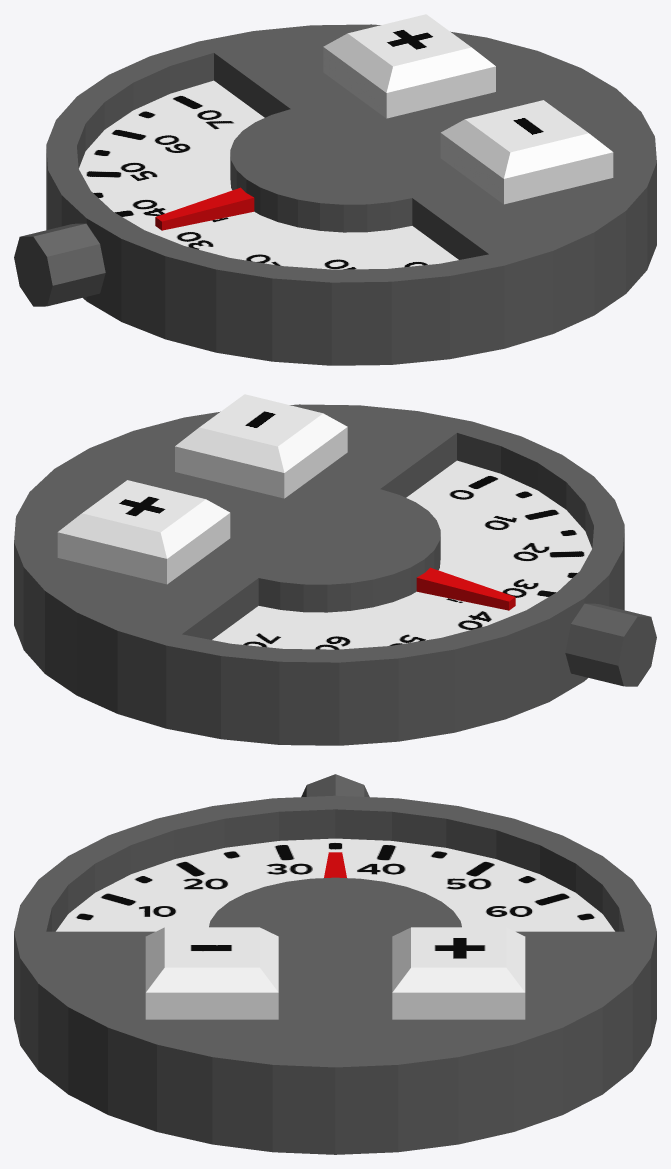
File: PressureGauge.fbx
3 views of the same model, one above another, from view 1: azimuth 30°, elevation 25°; view 2: azimuth 150°, elevation 25°; view 3: azimuth 270°, elevation 25° (orthographic). The views are drawn at different scales.
Visible parts, largest first — view 1: PressureGauge, DecreaseButton, IncreaseButton, Connector, Hand; view 2: PressureGauge, IncreaseButton, DecreaseButton, Connector, Hand; view 3: PressureGauge, DecreaseButton, IncreaseButton, Connector.
Boxes of the visible parts, x1,y1,x2,y2 form: PressureGauge: (46, 24, 656, 365); DecreaseButton: (440, 100, 613, 204); IncreaseButton: (323, 14, 495, 118); Connector: (14, 223, 105, 306); Hand: (155, 187, 254, 230); PressureGauge: (14, 404, 624, 745); IncreaseButton: (57, 480, 230, 584); DecreaseButton: (175, 394, 347, 498); Connector: (565, 603, 656, 686); Hand: (416, 567, 515, 610); PressureGauge: (14, 795, 656, 1154); DecreaseButton: (145, 927, 278, 1019); IncreaseButton: (392, 927, 525, 1019); Connector: (301, 774, 369, 796).
Bounding box in the file's own units: 22.01 × 4.5 × 20.
